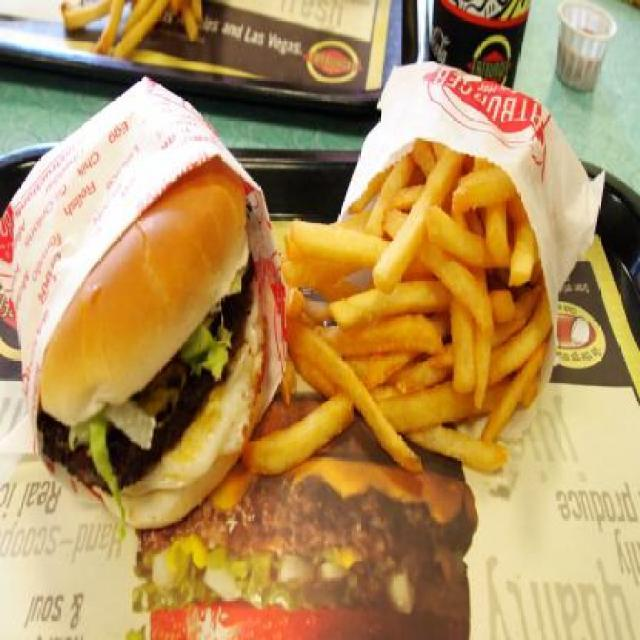Hamburger: (38, 156, 270, 544)
